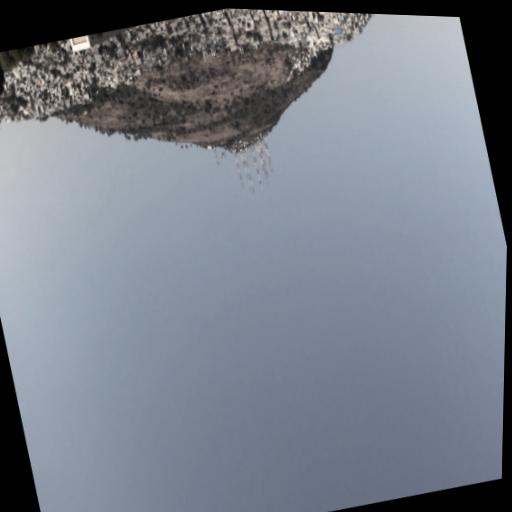drones: (218, 148, 228, 161)
